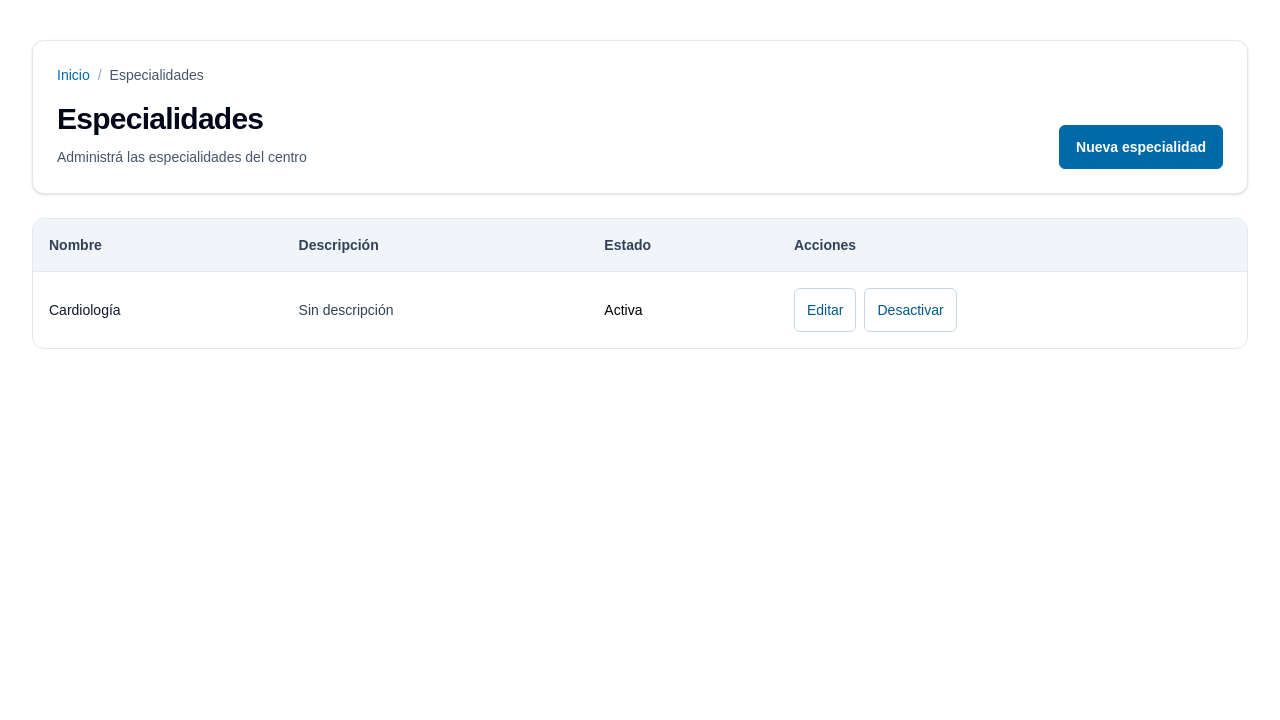
Test: SpecialtiesScreen › edits with the row CAS token and refreshes after stale without retry
Click the button "Editar": point(825, 310) [794,288,856,332]
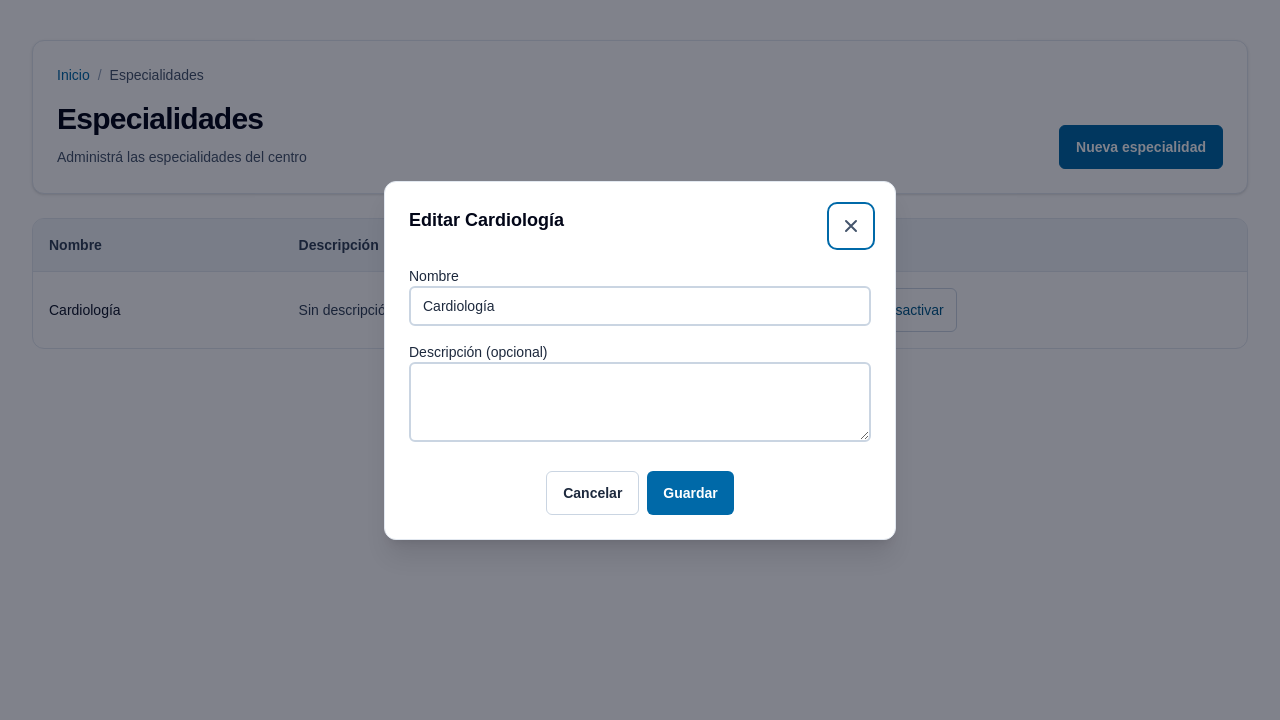
Replace the text in the field labelled "Nombre" with "Clínica": point(640, 306) [409,286,871,326]
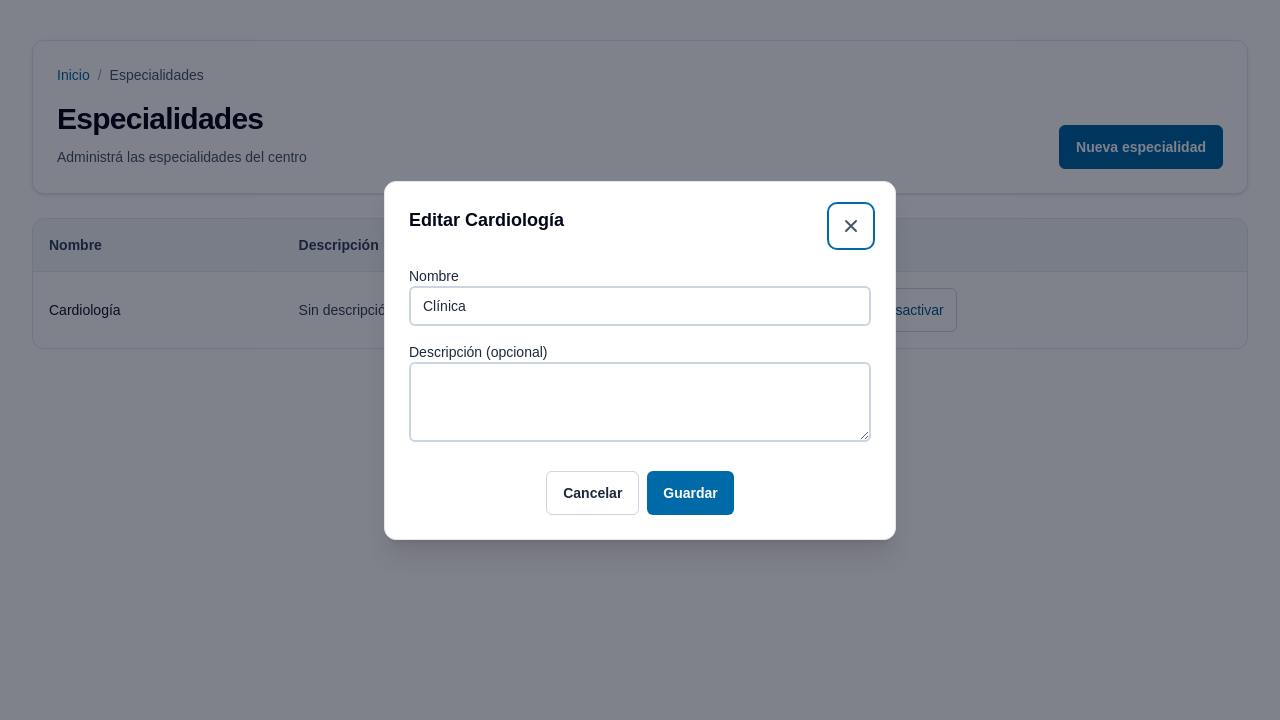
Click the button "Guardar": point(691, 492) [647,470,734,514]
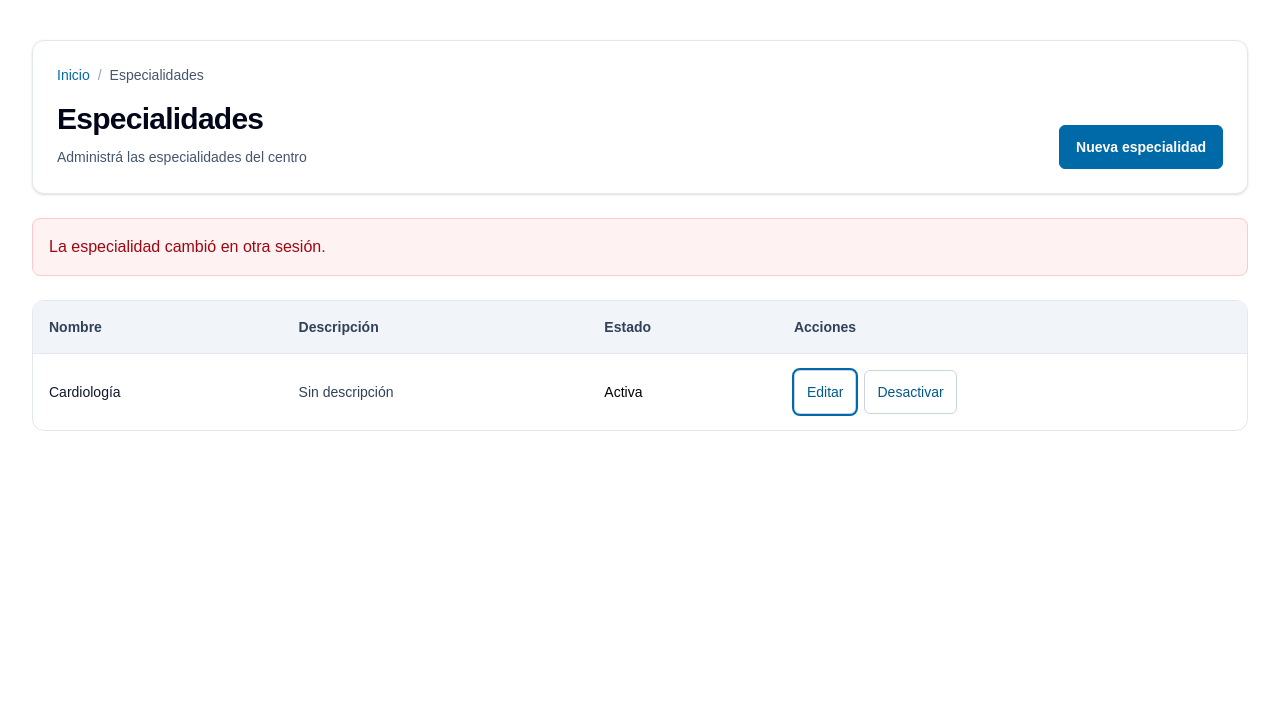
Expected: the message shows "otra sesión", [49,238,326,255]
